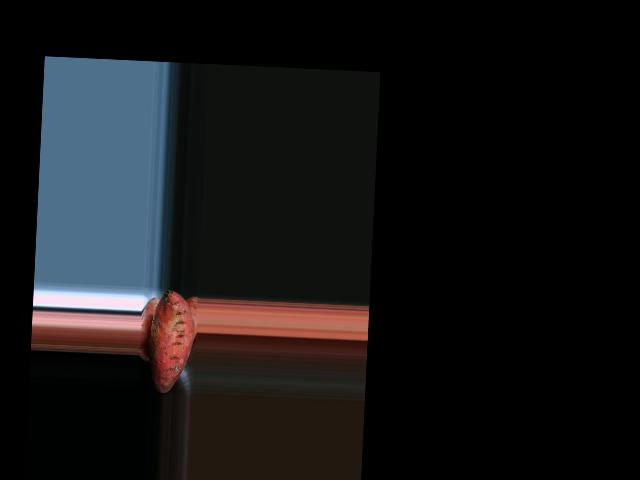sweet_potato: (151, 289, 192, 393)
